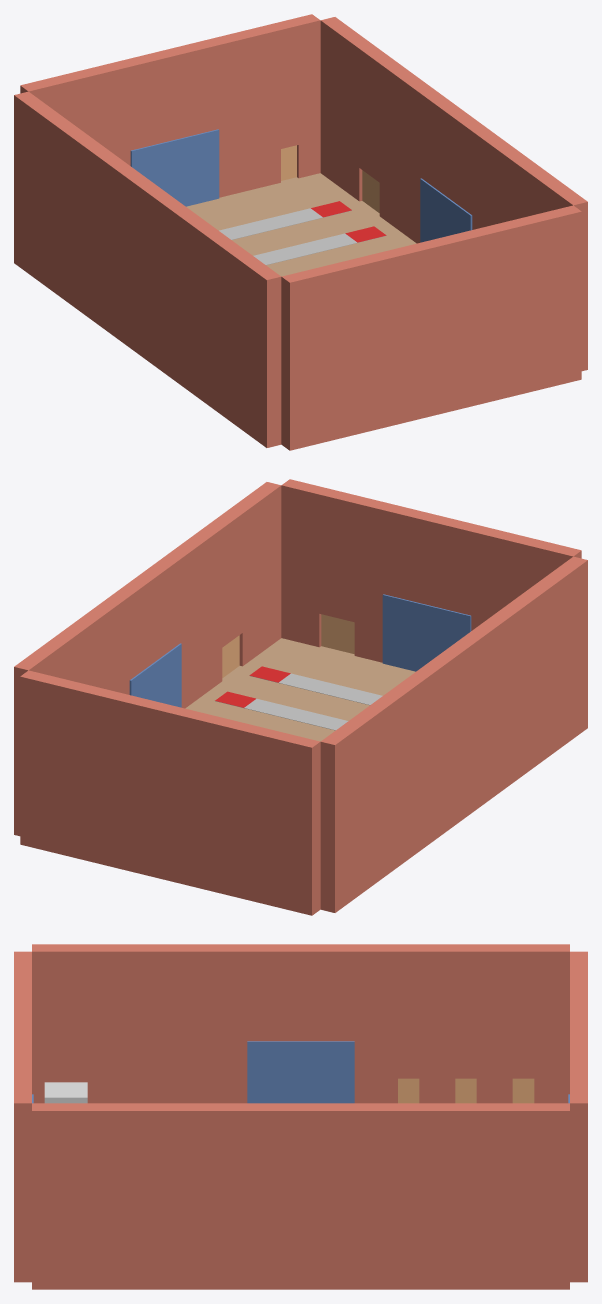
File: South_gym.fbx
3 views of the same model, one above another, from view 1: azimuth 30°, elevation 25°; view 2: azimuth 150°, elevation 25°; view 3: azimuth 270°, elevation 25° (orthographic). The views are drawn at different scales.
Parts seen in each view (by area): view 1: Wall_south, Wall_west, Wall_north, Wall_east, Floor, Mat_north, Cube, Mat_east; view 2: Wall_north, Wall_west, Wall_south, Wall_east, Floor, Mat_south, Cube, Mat_east; view 3: Wall_east, Wall_west, Mat_west, Wall_north, Wall_south, DoubleDoor_cutout.
Part boxes in pixels (x1,y1,x2,y2): Wall_south: (281,205,581,450); Wall_west: (14,91,281,447); Wall_north: (20,14,320,197); Wall_east: (320,17,587,371); Floor: (186,173,416,276); Mat_north: (130,129,219,206); Cube: (219,201,386,265); Mat_east: (420,178,472,242); Wall_north: (20,670,320,915); Wall_west: (320,556,587,912); Wall_south: (281,479,581,662); Wall_east: (14,482,281,836); Floor: (185,638,415,741); Mat_south: (382,594,471,671); Cube: (215,666,382,730); Mat_east: (129,643,181,707); Wall_east: (32,1103,569,1289); Wall_west: (32,944,569,1103); Mat_west: (247,1041,354,1103); Wall_north: (570,951,587,1282); Wall_south: (14,951,31,1282); DoubleDoor_cutout: (44,1082,87,1103).
Size of the model in its own units: 22 by 11 by 32.
